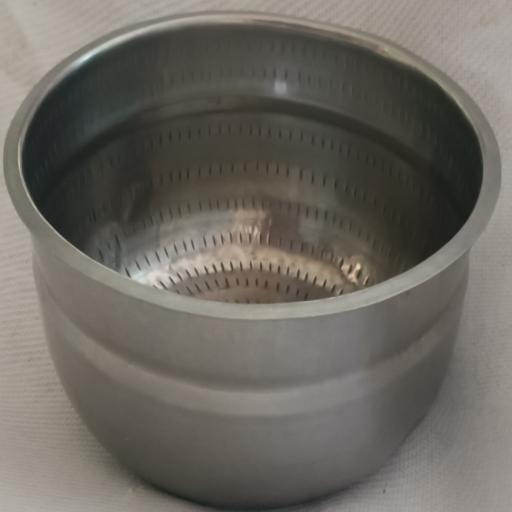vessel: (4, 13, 500, 507)
